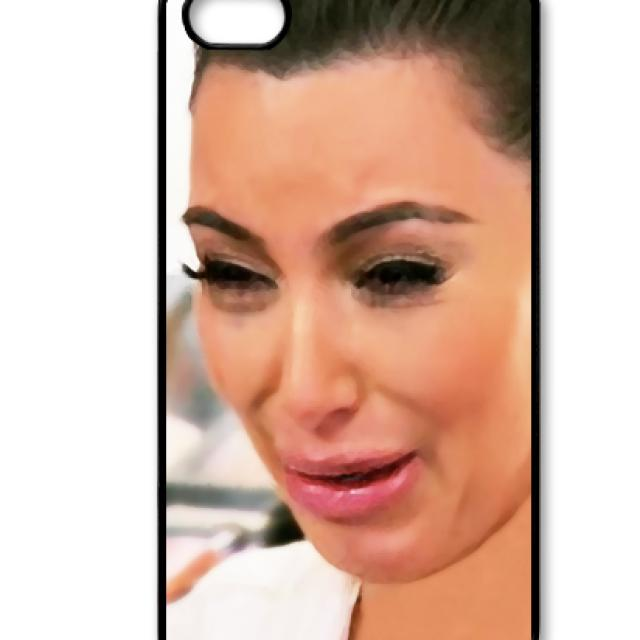Depress: (192, 48, 533, 585)
